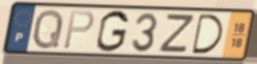3: (130, 11, 160, 53)
D: (191, 12, 225, 55)
G: (94, 9, 131, 54)
P: (61, 10, 97, 51)
Q: (30, 8, 65, 51)
Z: (156, 13, 197, 55)
